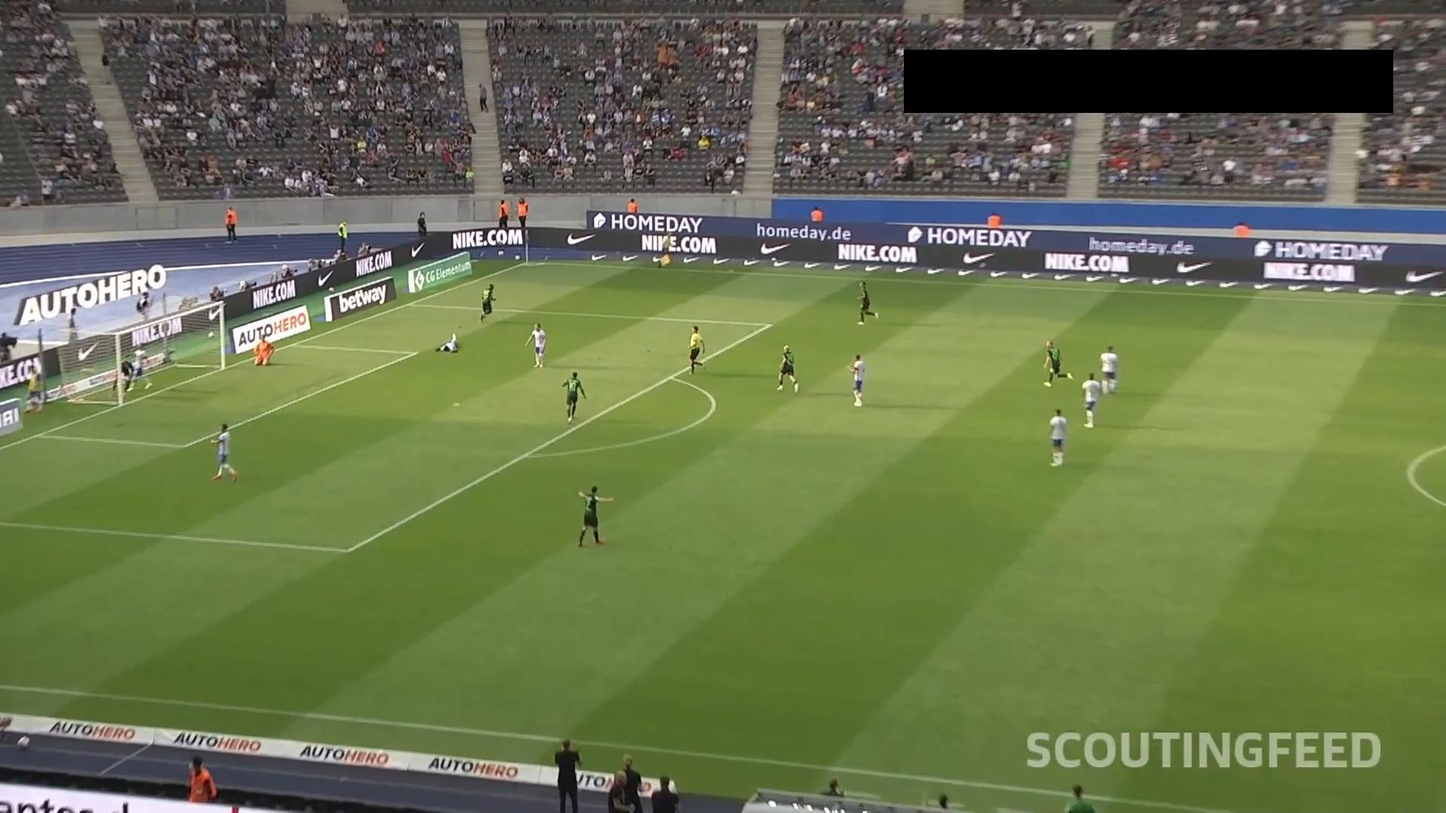goalkeeper: (250, 333, 278, 368)
player: (578, 482, 614, 548), (1042, 336, 1076, 388), (212, 423, 239, 483), (560, 370, 590, 421), (777, 344, 803, 396), (1047, 406, 1068, 470), (128, 344, 154, 394), (1080, 370, 1101, 431), (844, 352, 866, 410), (855, 278, 880, 325), (109, 358, 133, 400), (1100, 343, 1119, 396), (526, 321, 546, 369), (478, 279, 498, 324), (434, 330, 459, 354)
referee: (684, 324, 708, 378), (654, 233, 673, 270)
